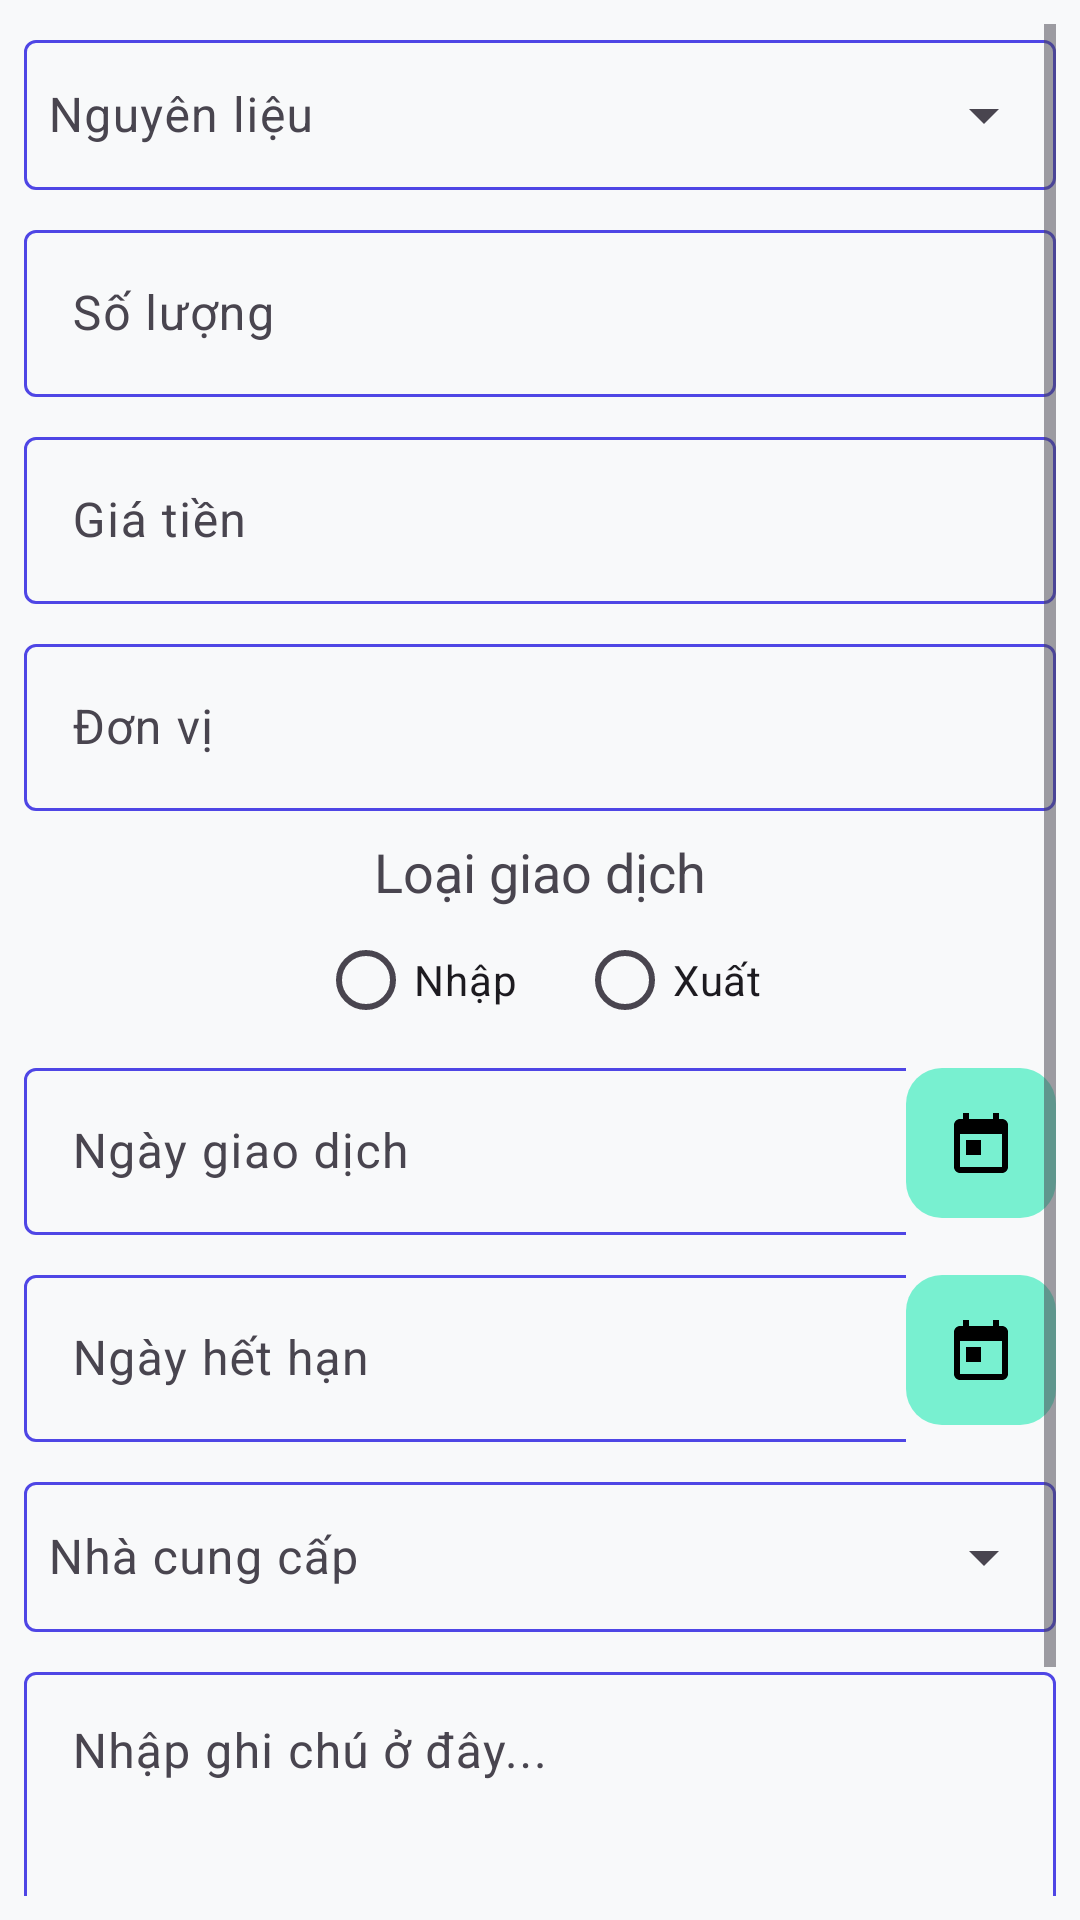

Where to tap for icons on this 1080 x 1920 app screen, as (x=x, y=y):
Chọn ngày: (x=981, y=1143), (x=981, y=1350)
